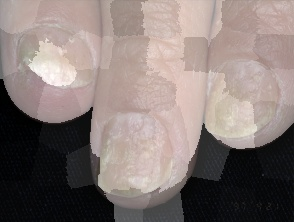Nail_psoriasis: (82, 98, 190, 207), (199, 51, 293, 154), (9, 18, 100, 91)
